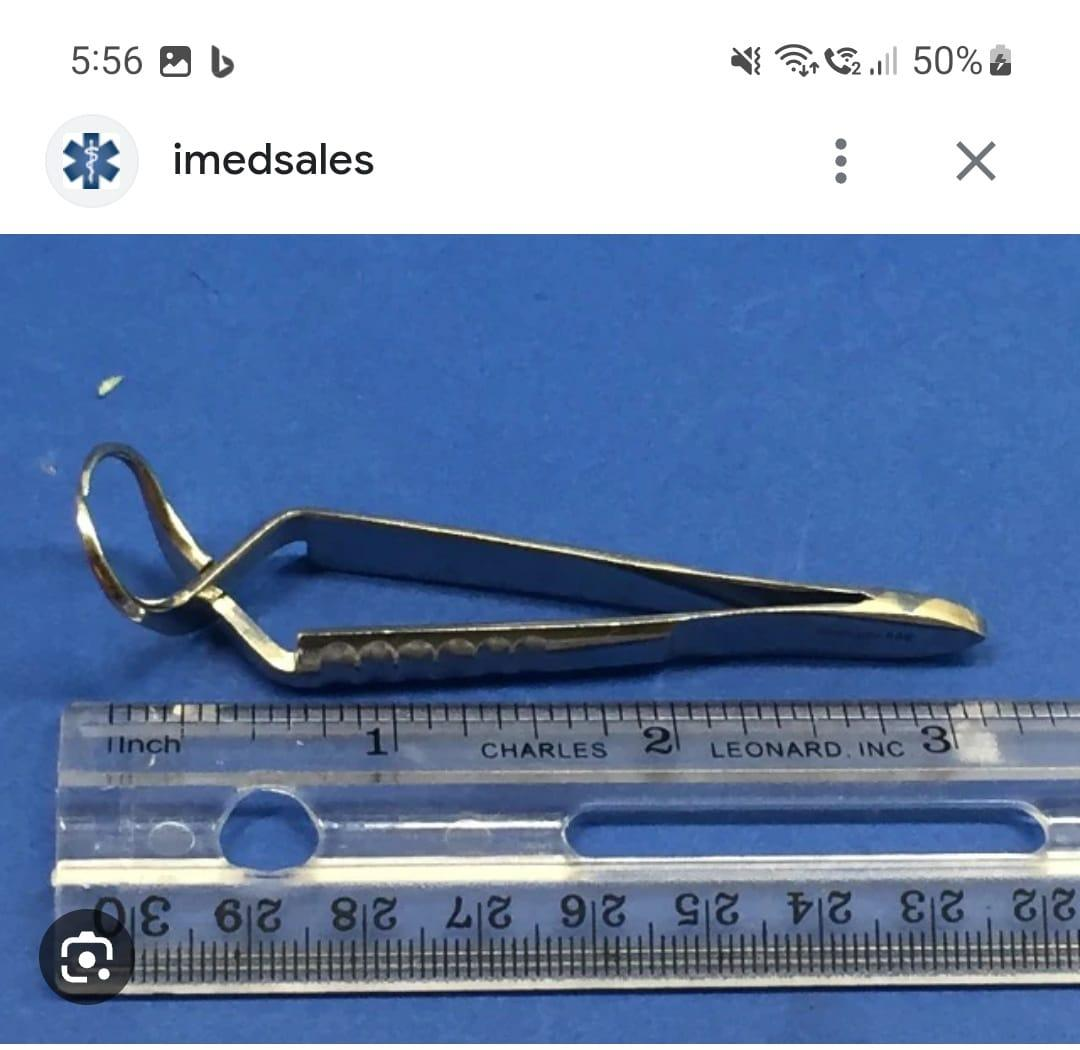Jones Towel Clamp: (30, 420, 1010, 712)
